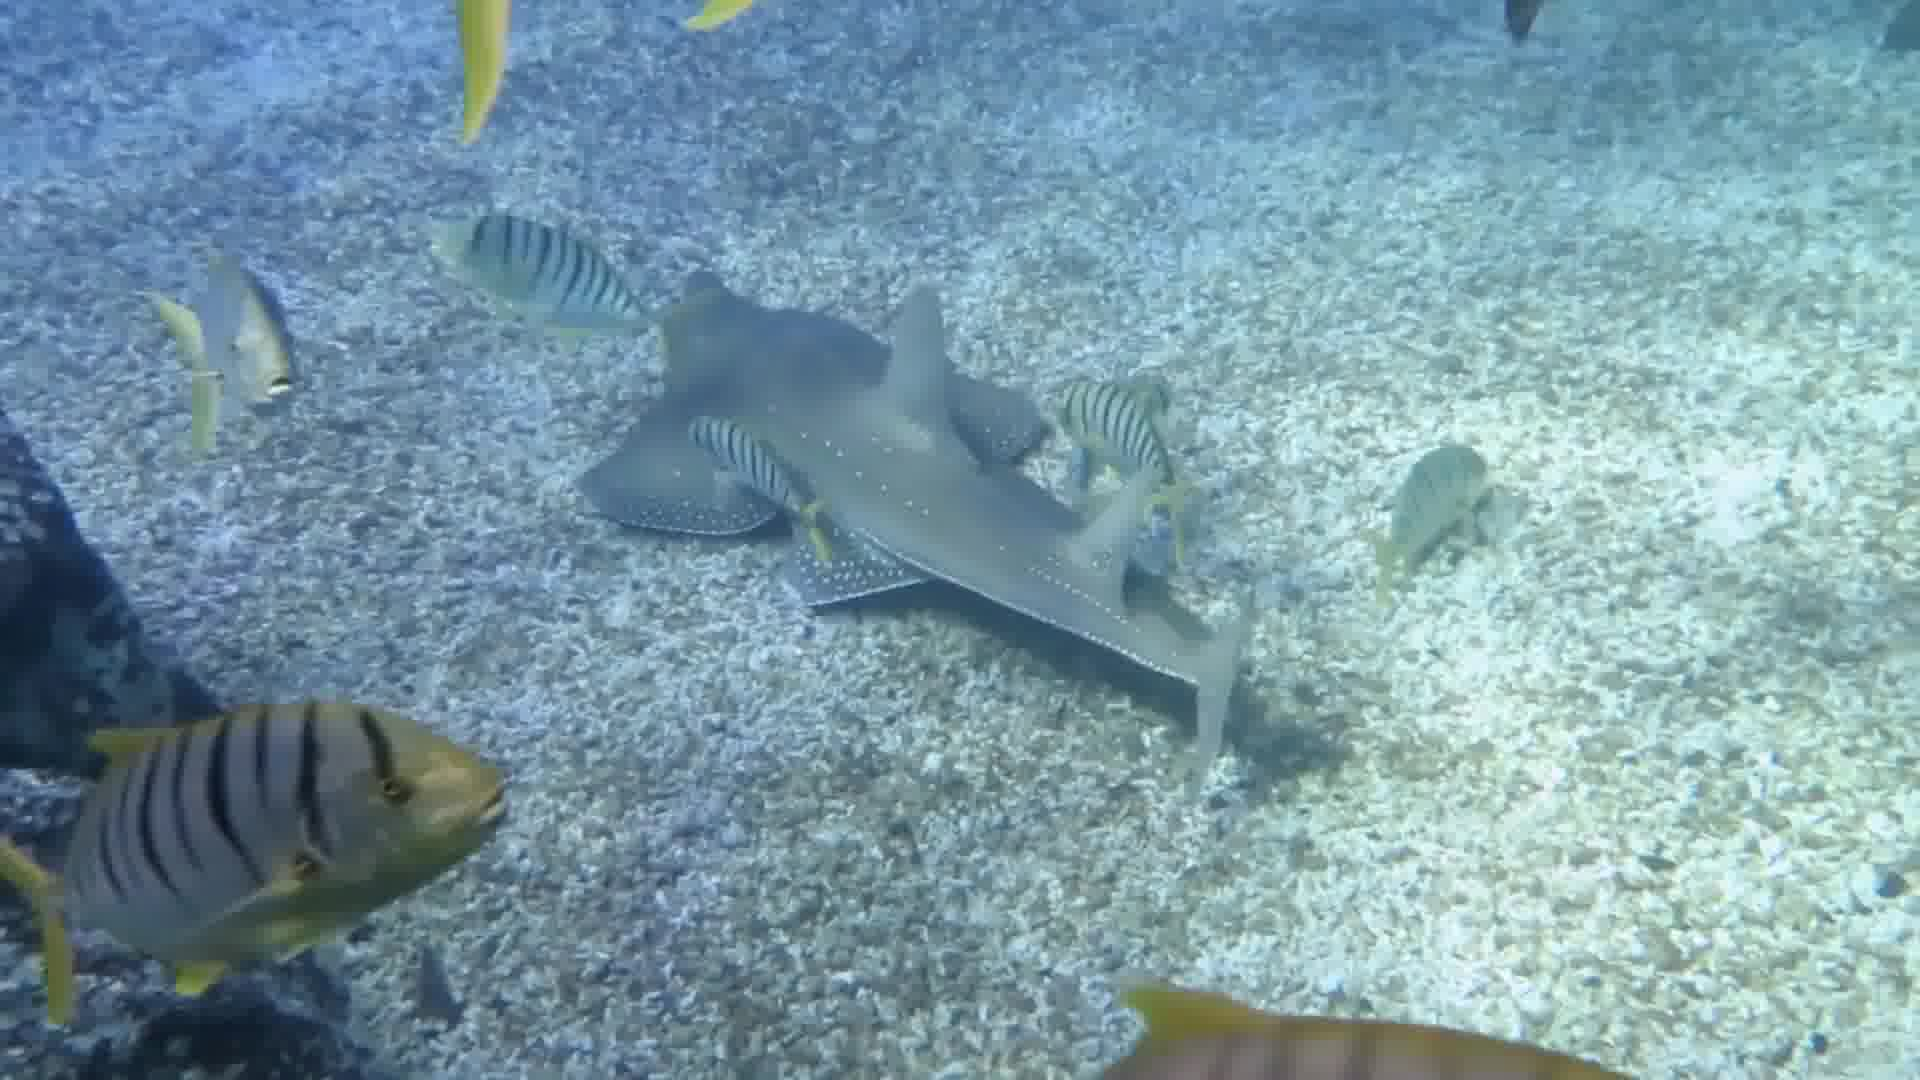Rhychobatus djiddensis: (582, 218, 1369, 777)
